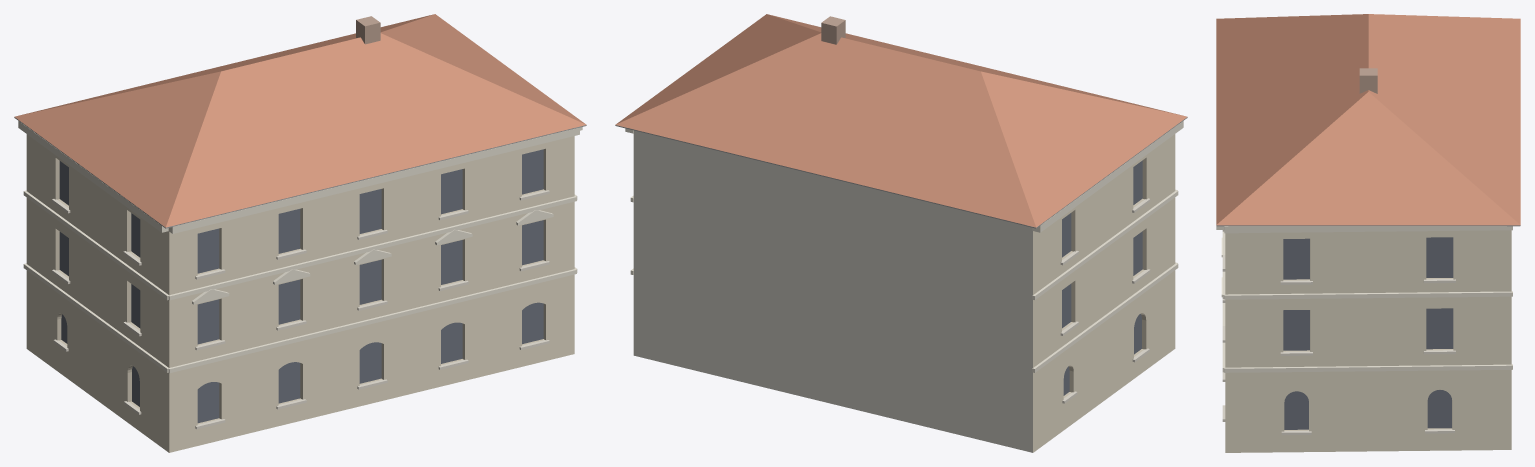
The picture shows the model from 3 angles, left to right: view 1: azimuth 30°, elevation 25°; view 2: azimuth 150°, elevation 25°; view 3: azimuth 270°, elevation 25°; orthographic projection.
Parts seen in each view (by area): view 1: CP_437_Masonry, CP_437_Roof, CP_437_Cornice_main_eave_0, CP_437_Cornice_main_string1_0, CP_437_Cornice_main_string2_0, CP_437_Cornice_left_l_eave_0, CP_437_Cornice_left_l_string1_0, CP_437_Cornice_left_l_string2_0, CP_437_Roof_EaveClosure_0, CP_437_Chimney_0; view 2: CP_437_Masonry, CP_437_Roof, CP_437_Cornice_left_l_eave_0, CP_437_Cornice_left_l_string1_0, CP_437_Cornice_left_l_string2_0, CP_437_Roof_EaveClosure_2, CP_437_Chimney_0; view 3: CP_437_Roof, CP_437_Masonry, CP_437_Cornice_right_r_eave_0, CP_437_Cornice_right_r_string2_0, CP_437_Cornice_right_r_string1_0, CP_437_Chimney_0.
Part boxes in pixels (x1,y1,x2,y2): CP_437_Masonry: (26,134,574,452); CP_437_Roof: (14,14,586,227); CP_437_Cornice_main_eave_0: (168,127,579,233); CP_437_Cornice_main_string1_0: (168,269,576,373); CP_437_Cornice_main_string2_0: (168,196,576,300); CP_437_Cornice_left_l_eave_0: (18,121,168,232); CP_437_Cornice_left_l_string1_0: (23,263,169,372); CP_437_Cornice_left_l_string2_0: (23,190,169,300); CP_437_Roof_EaveClosure_0: (159,128,574,228); CP_437_Chimney_0: (356,16,380,44); CP_437_Masonry: (633,130,1175,452); CP_437_Roof: (615,14,1187,227); CP_437_Cornice_left_l_eave_0: (1032,121,1183,232); CP_437_Cornice_left_l_string1_0: (1032,263,1178,372); CP_437_Cornice_left_l_string2_0: (1032,191,1178,299); CP_437_Roof_EaveClosure_2: (627,128,1042,228); CP_437_Chimney_0: (821,16,845,44); CP_437_Roof: (1216,14,1520,225); CP_437_Masonry: (1225,230,1511,452); CP_437_Cornice_right_r_eave_0: (1224,226,1512,233); CP_437_Cornice_right_r_string2_0: (1224,291,1512,299); CP_437_Cornice_right_r_string1_0: (1224,364,1512,372); CP_437_Chimney_0: (1359,68,1377,93).
Bounding box in the file's own units: 21.79 × 15.5 × 13.58.
